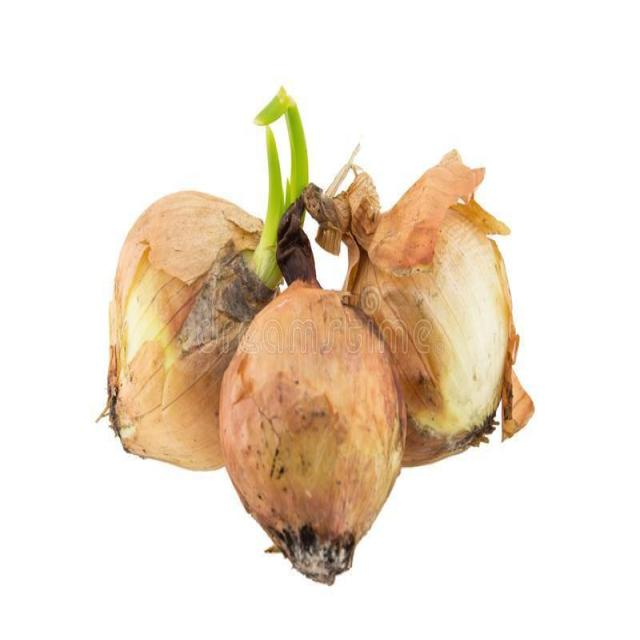Onion: (302, 144, 538, 468), (224, 279, 406, 587), (96, 189, 278, 473), (246, 85, 307, 286)
